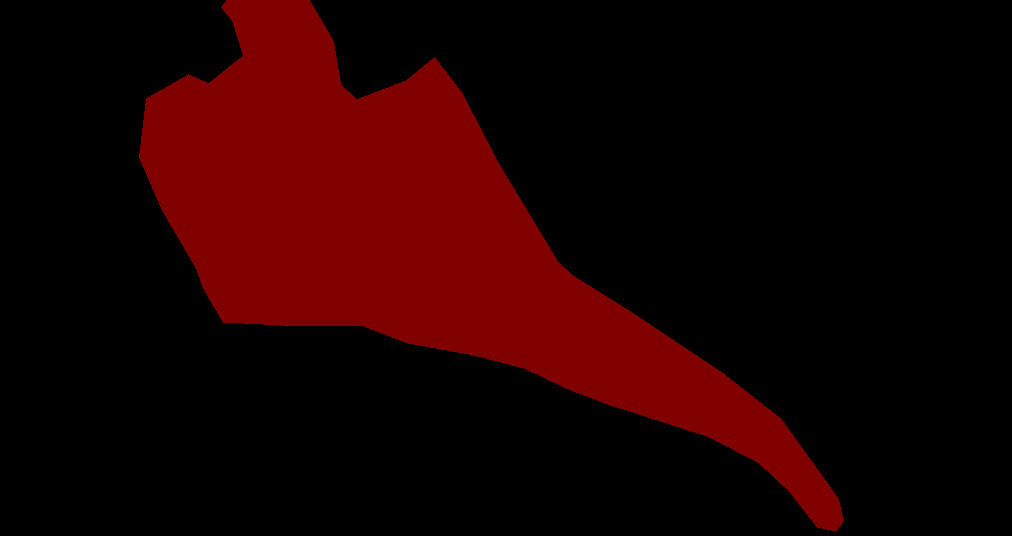fire: (139, 0, 843, 531)
